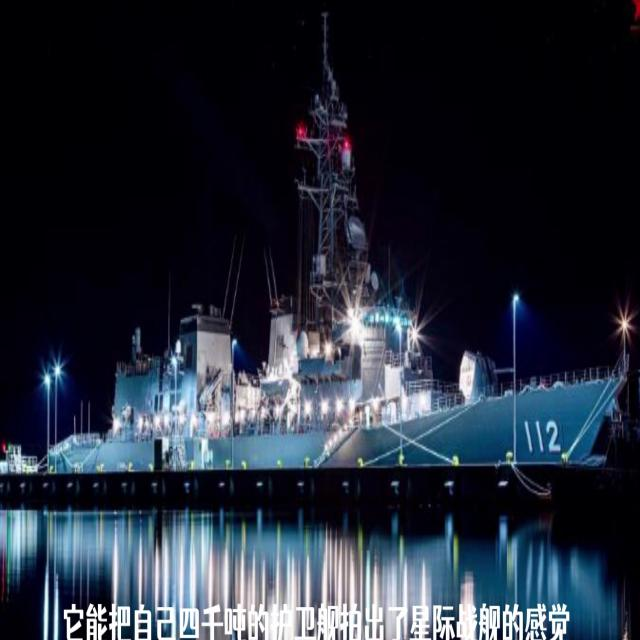navalvessels: (48, 82, 640, 565)
